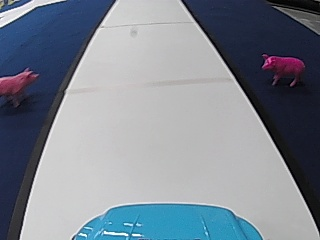pig: (257, 50, 306, 85), (1, 65, 39, 107)
